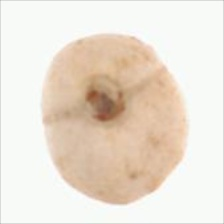L3: (81, 72, 130, 122)
L4: (41, 34, 189, 205)
